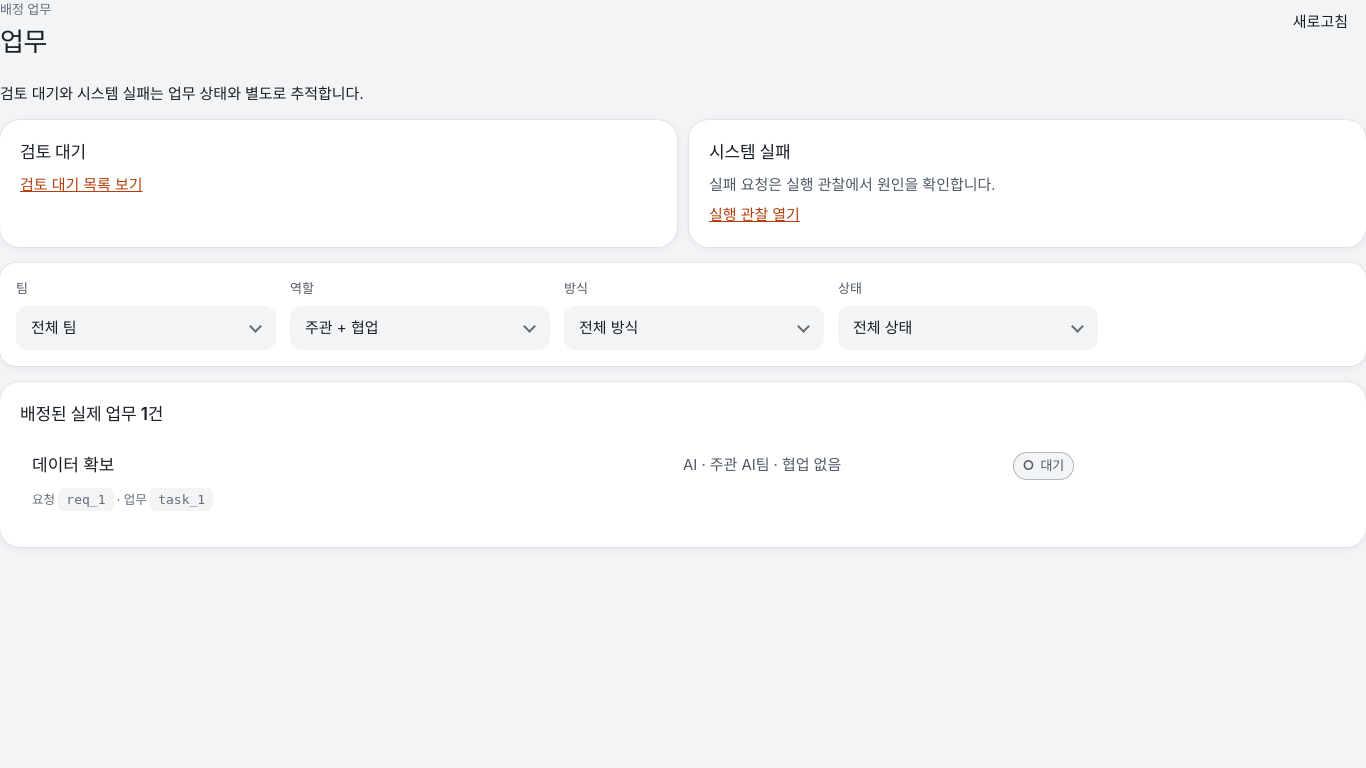
Scenario: Tasks block reasons (P4-01) › refreshes list and selected task when another tab transitions a task
Click the button "데이터 확보 AI · 주관 AI팀 · 협업 없음 ○ 대기 요청 req_1 · 업무 task_1" at coordinates (73, 465), box [20,436,1346,527]
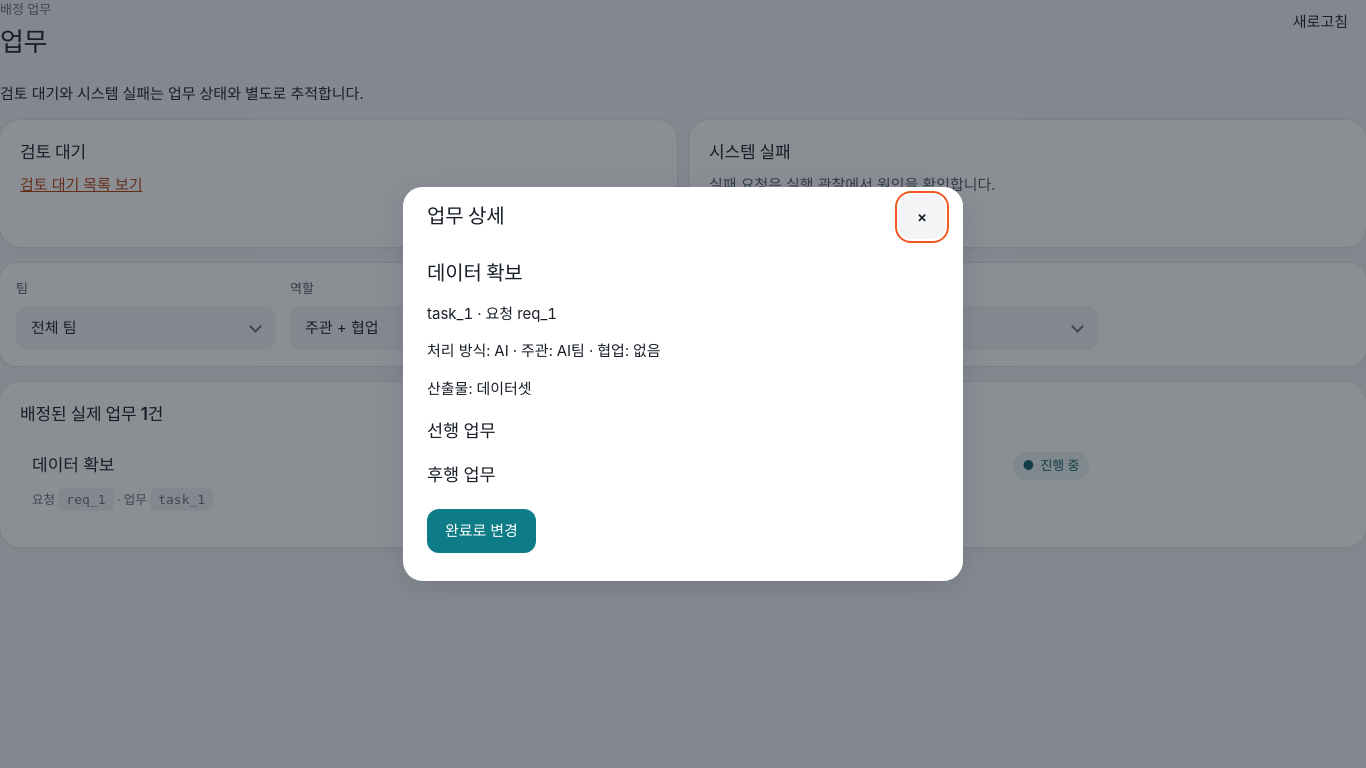
Expected: the dialog "업무 상세" is shown, [403,187,963,581]
Expected: the button "완료로 변경" is shown, [427,509,536,553]
